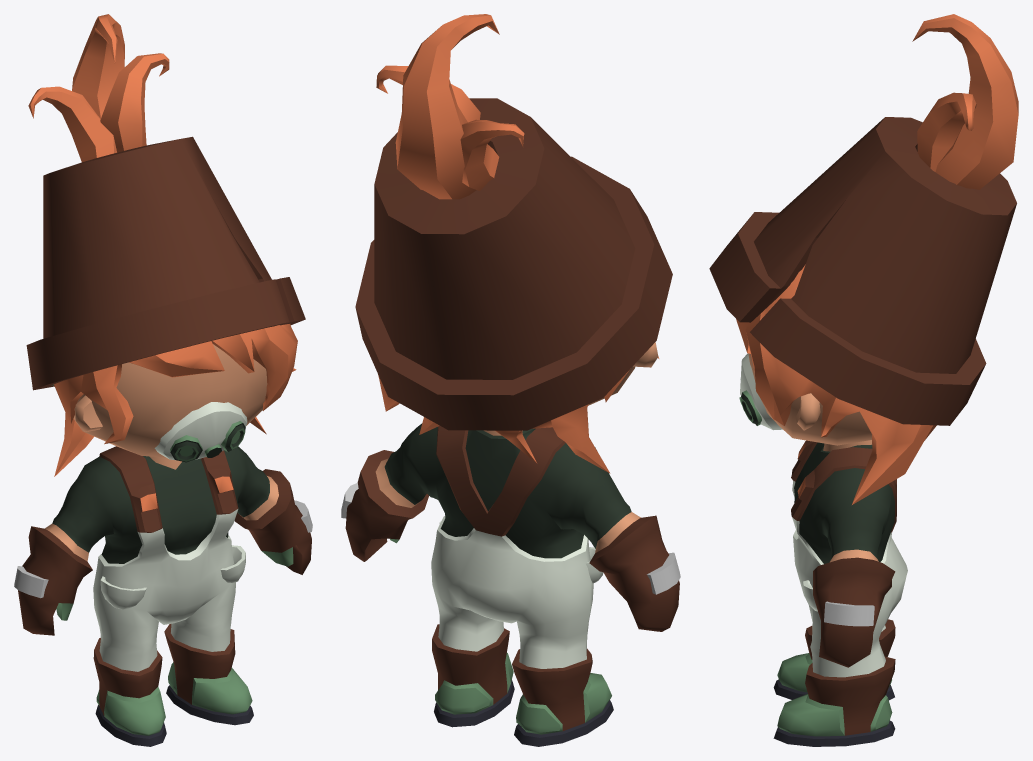
The model's file is SM_Gardener_material.fbx.
3 renders of one model, left to right at view 1: azimuth 30°, elevation 25°; view 2: azimuth 150°, elevation 25°; view 3: azimuth 270°, elevation 25°, orthographic. The views are drawn at different scales.
Visible parts, largest first — view 1: polySurface203; view 2: polySurface203; view 3: polySurface203.
Part boxes in pixels (<box>): polySurface203: <box>14,14,312,746</box>; polySurface203: <box>341,14,680,746</box>; polySurface203: <box>709,14,1018,746</box>.
Bounding box in the file's own units: 103 × 223 × 90.39.
